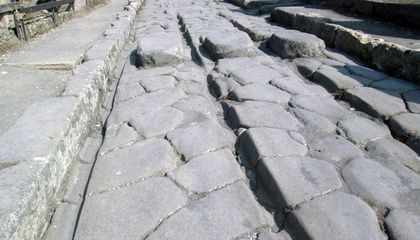pothole: (109, 34, 232, 102)
